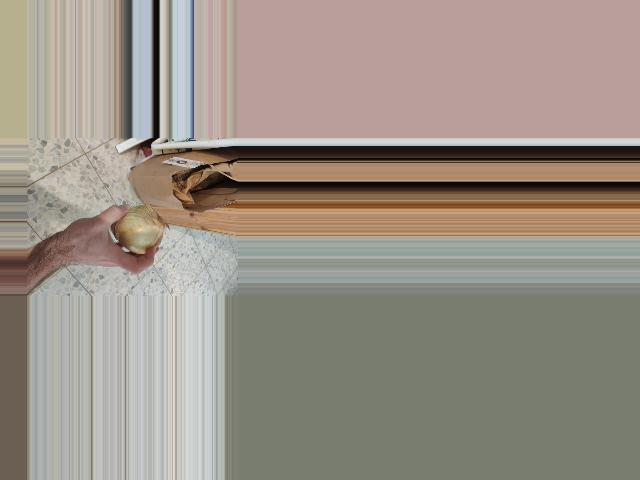onion: (107, 204, 168, 254)
